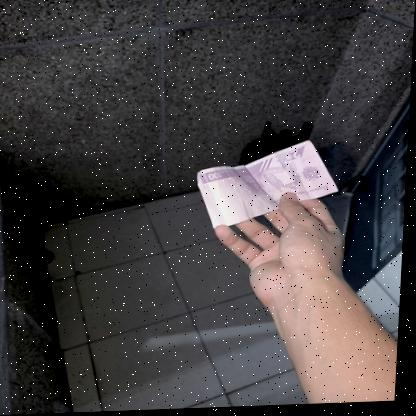one_hundred-back-vef: (196, 140, 343, 232)
